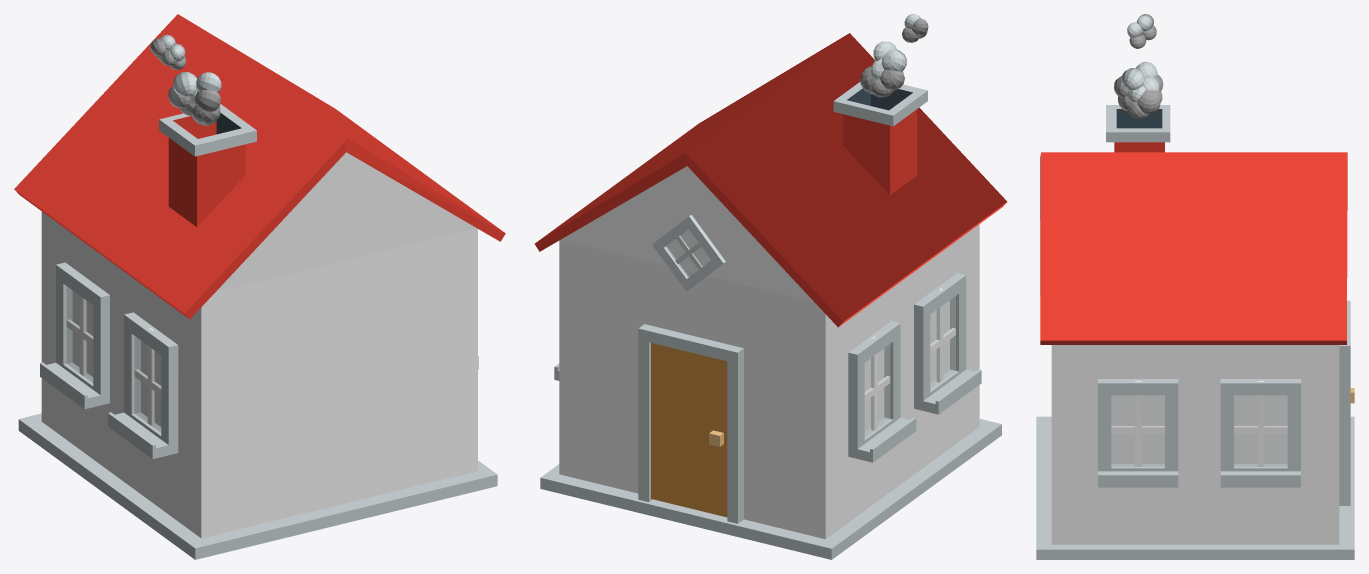
The model's file is Small House.glb.
3 renders of one model, left to right at view 1: azimuth 30°, elevation 25°; view 2: azimuth 150°, elevation 25°; view 3: azimuth 270°, elevation 25°, orthographic. The views are drawn at different scales.
Visible parts, largest first — view 1: Node; view 2: Node; view 3: Node.
Boxes of the visible parts, x1,y1,x2,y2 form: Node: (14, 14, 505, 559); Node: (534, 14, 1007, 559); Node: (1036, 14, 1354, 559).
Size of the model in its own units: 29160 by 40123 by 27196.
